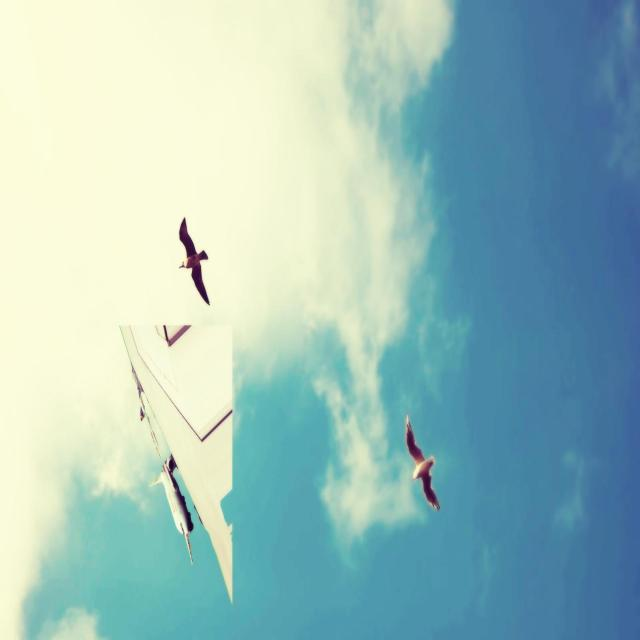airplane: (119, 321, 234, 604)
